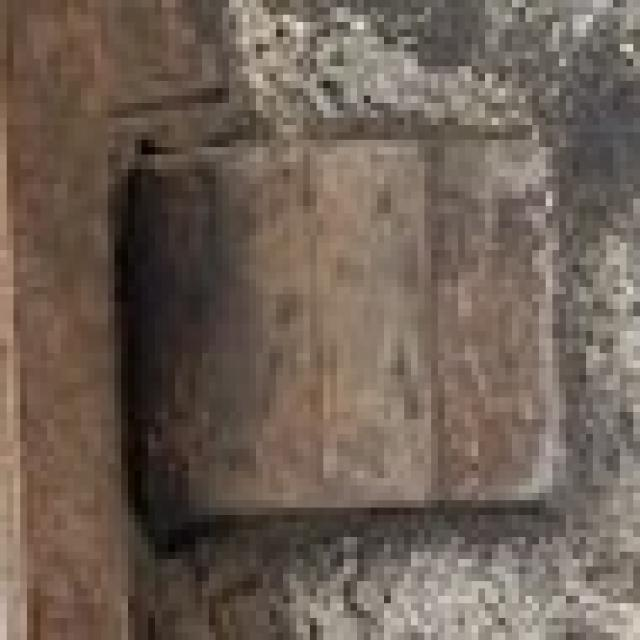track_bolt_missing: (125, 125, 445, 542)
